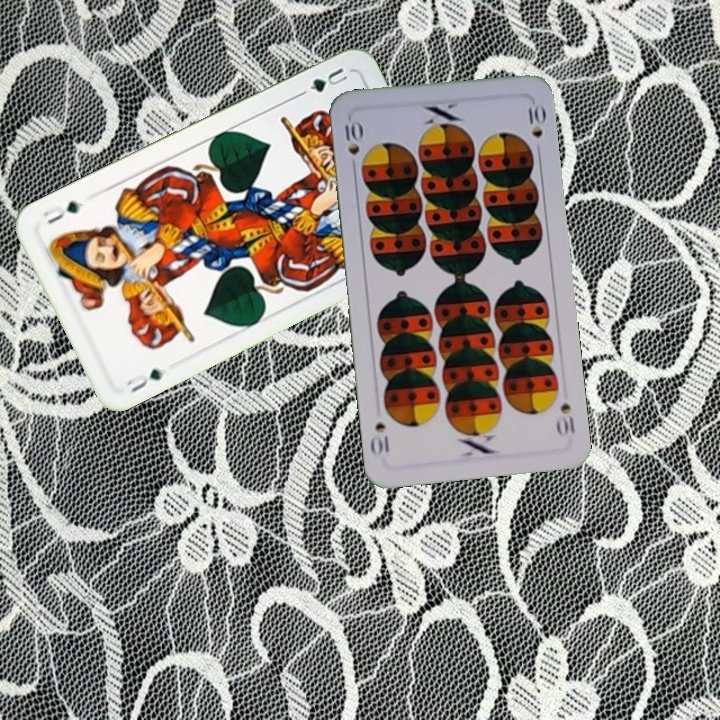GU: (305, 63, 350, 95), (122, 364, 166, 395)
S10: (341, 115, 364, 174), (552, 399, 578, 439)
